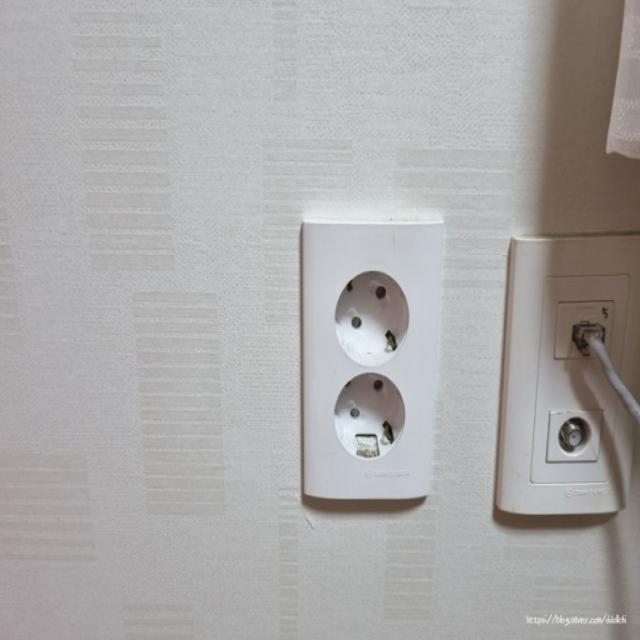typeb: (285, 199, 464, 539)
